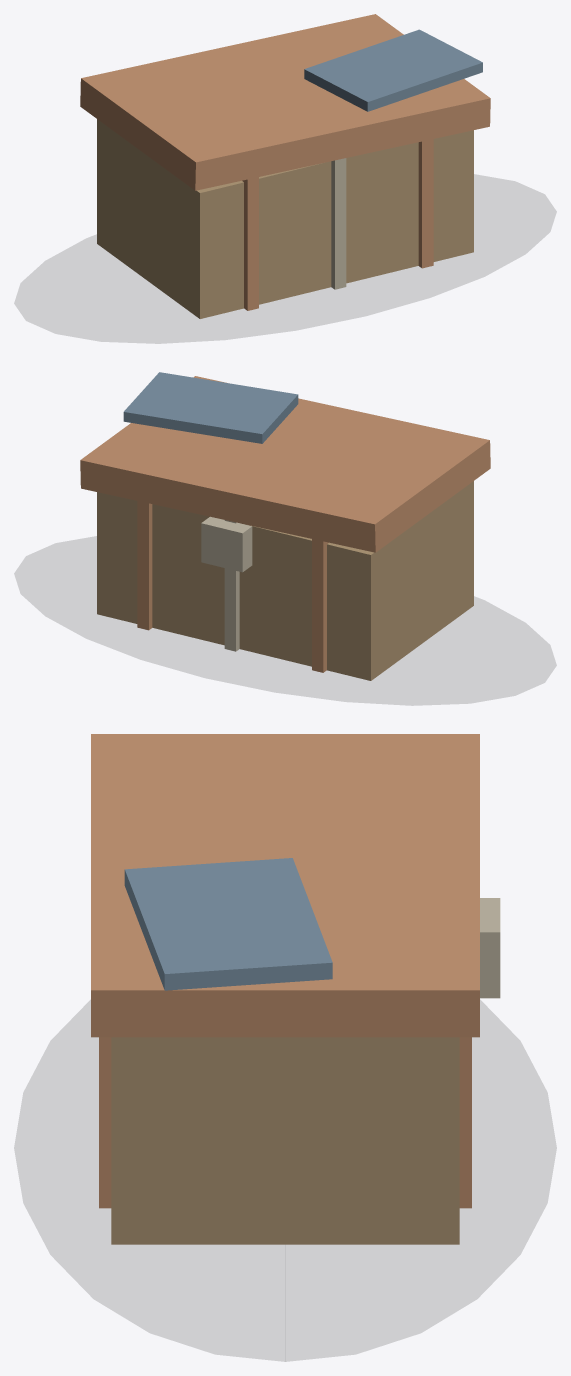
Rendered from storage_chest.glb.
3 views of the same model, one above another, from view 1: azimuth 30°, elevation 25°; view 2: azimuth 150°, elevation 25°; view 3: azimuth 270°, elevation 25° (orthographic). The views are drawn at different scales.
Parts seen in each view (by area): view 1: chest_base, chest_lid, baked_contact_shadow, cloth_bundle, metal_strip_1, metal_strip_2, metal_strip_0; view 2: chest_base, chest_lid, baked_contact_shadow, cloth_bundle, front_lock, metal_strip_2, metal_strip_0, metal_strip_1; view 3: chest_lid, chest_base, baked_contact_shadow, cloth_bundle, metal_strip_2, front_lock.
Boxes of the visible parts, <box> form: chest_base: <box>97,119,473,318</box>; chest_lid: <box>80,14,490,190</box>; baked_contact_shadow: <box>14,174,556,343</box>; cloth_bundle: <box>304,29,482,111</box>; metal_strip_1: <box>331,158,346,289</box>; metal_strip_2: <box>418,139,433,268</box>; metal_strip_0: <box>242,177,258,310</box>; chest_base: <box>97,481,473,680</box>; chest_lid: <box>80,376,490,552</box>; baked_contact_shadow: <box>14,536,556,705</box>; cloth_bundle: <box>123,372,298,443</box>; front_lock: <box>201,516,252,572</box>; metal_strip_2: <box>137,501,152,630</box>; metal_strip_0: <box>312,539,328,672</box>; metal_strip_1: <box>224,520,239,651</box>; chest_lid: <box>91,734,479,1037</box>; chest_base: <box>111,1037,459,1244</box>; baked_contact_shadow: <box>14,1000,556,1361</box>; cloth_bundle: <box>124,858,332,990</box>; metal_strip_2: <box>99,1037,471,1208</box>; front_lock: <box>480,898,500,998</box>.
Size of the model in its own units: 2.5 by 0.8365 by 1.34.
